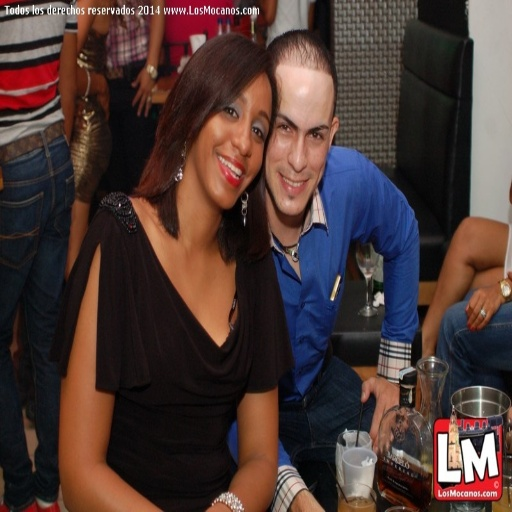hand: (364, 375, 405, 435), (463, 282, 504, 333), (130, 65, 159, 119), (97, 76, 112, 123)
